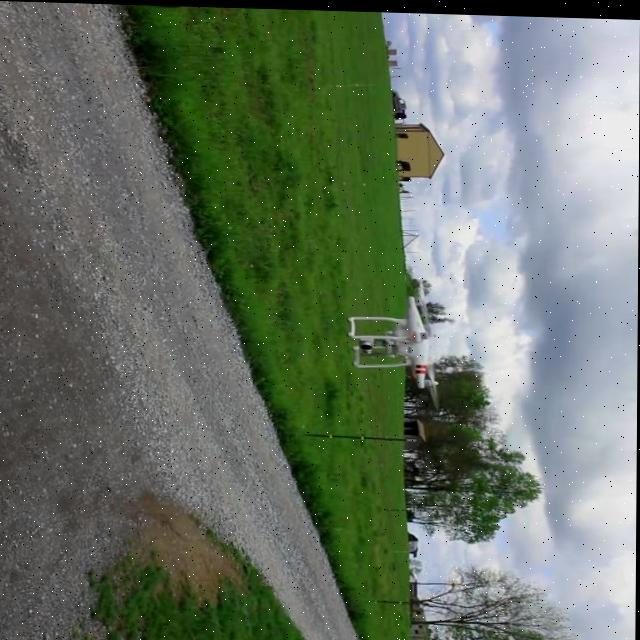drone: (347, 283, 445, 399)
